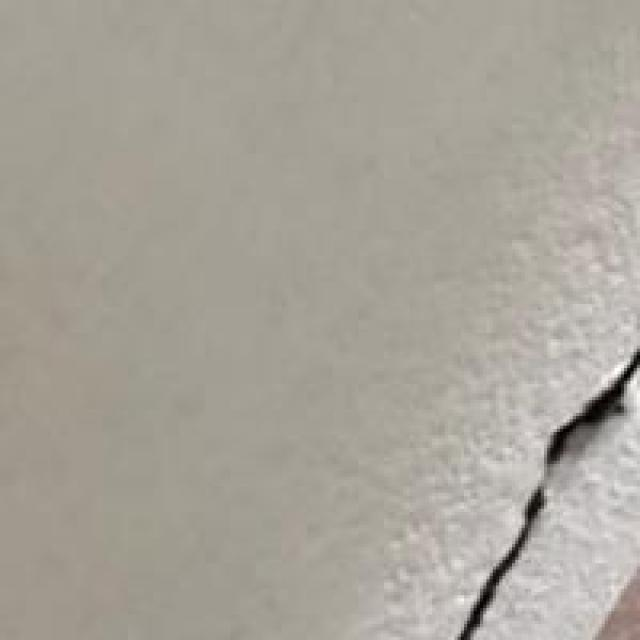crack: (400, 346, 637, 636)
